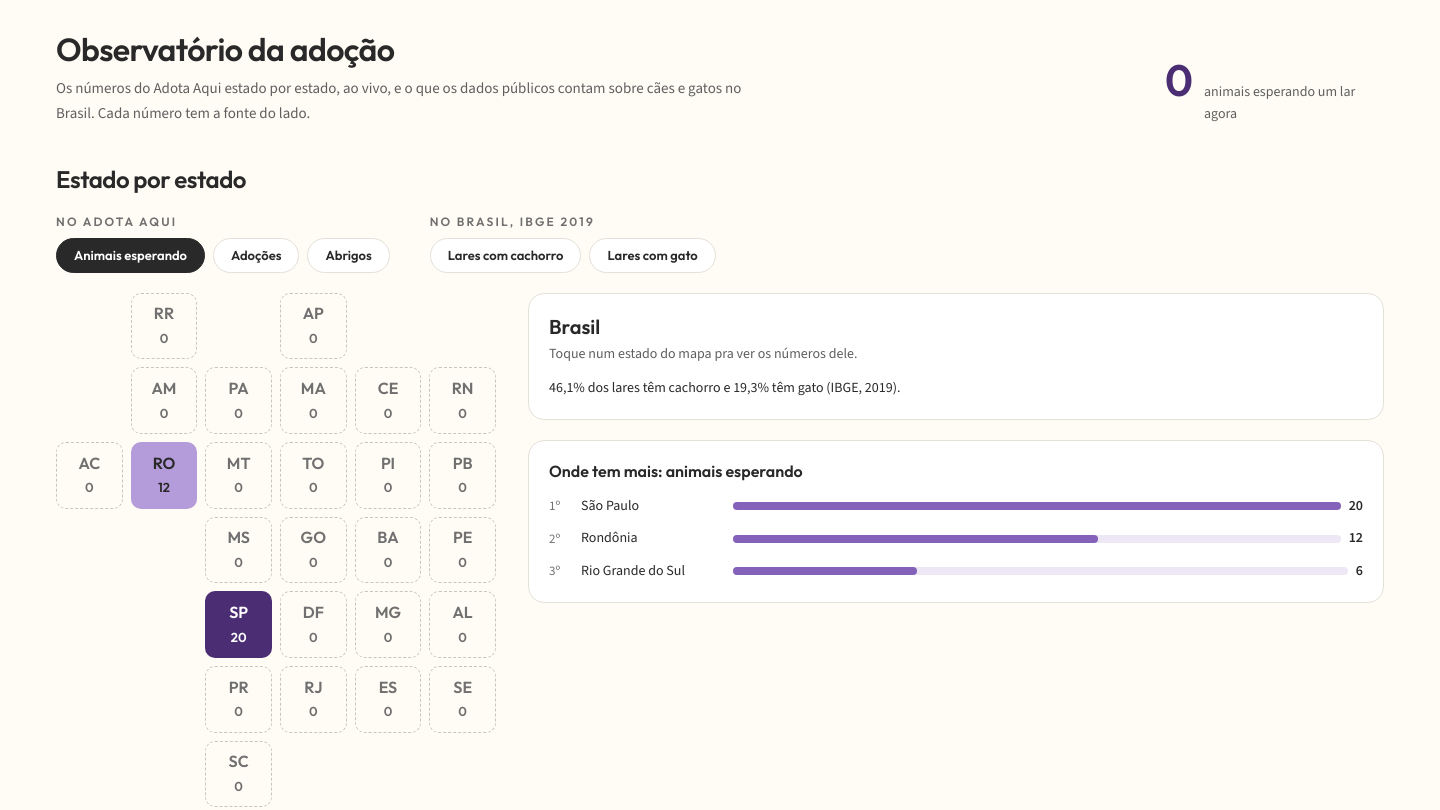
Scenario: escolher um estado mostra os números dele, do site e do IBGE, e dá pra voltar pro Brasil
Click the button with aria-label "Rondônia: 12 animais esperando": (164, 475) top-left (131, 442), bottom-right (197, 509)
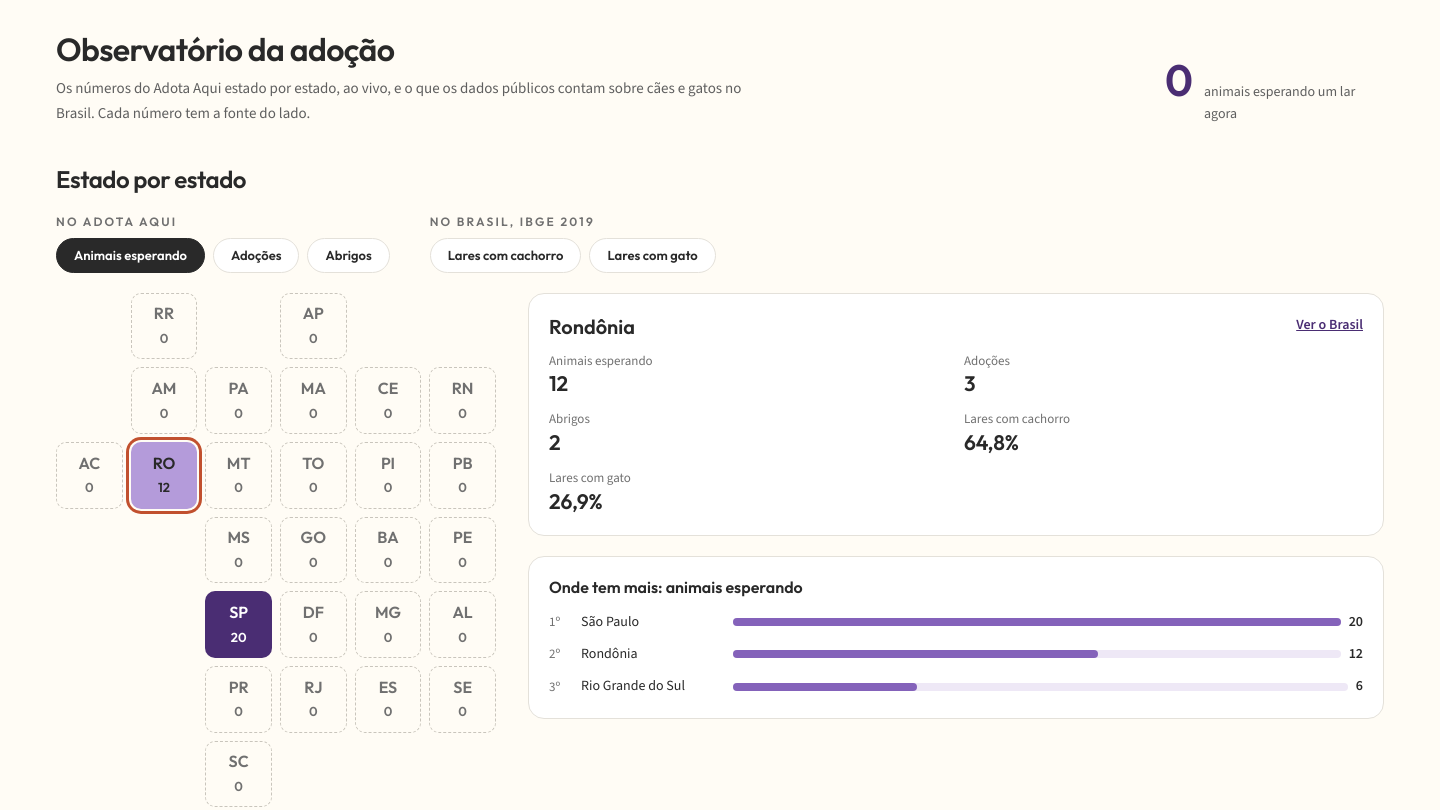
Expected: the text "3" is shown, top-left (964, 370), bottom-right (975, 396)
Expected: the text "2" is shown, top-left (549, 429), bottom-right (560, 455)
Expected: the text "26,9%" is shown, top-left (549, 488), bottom-right (602, 514)
Click the button "Ver o Brasil": (1330, 325) top-left (1296, 314), bottom-right (1363, 336)
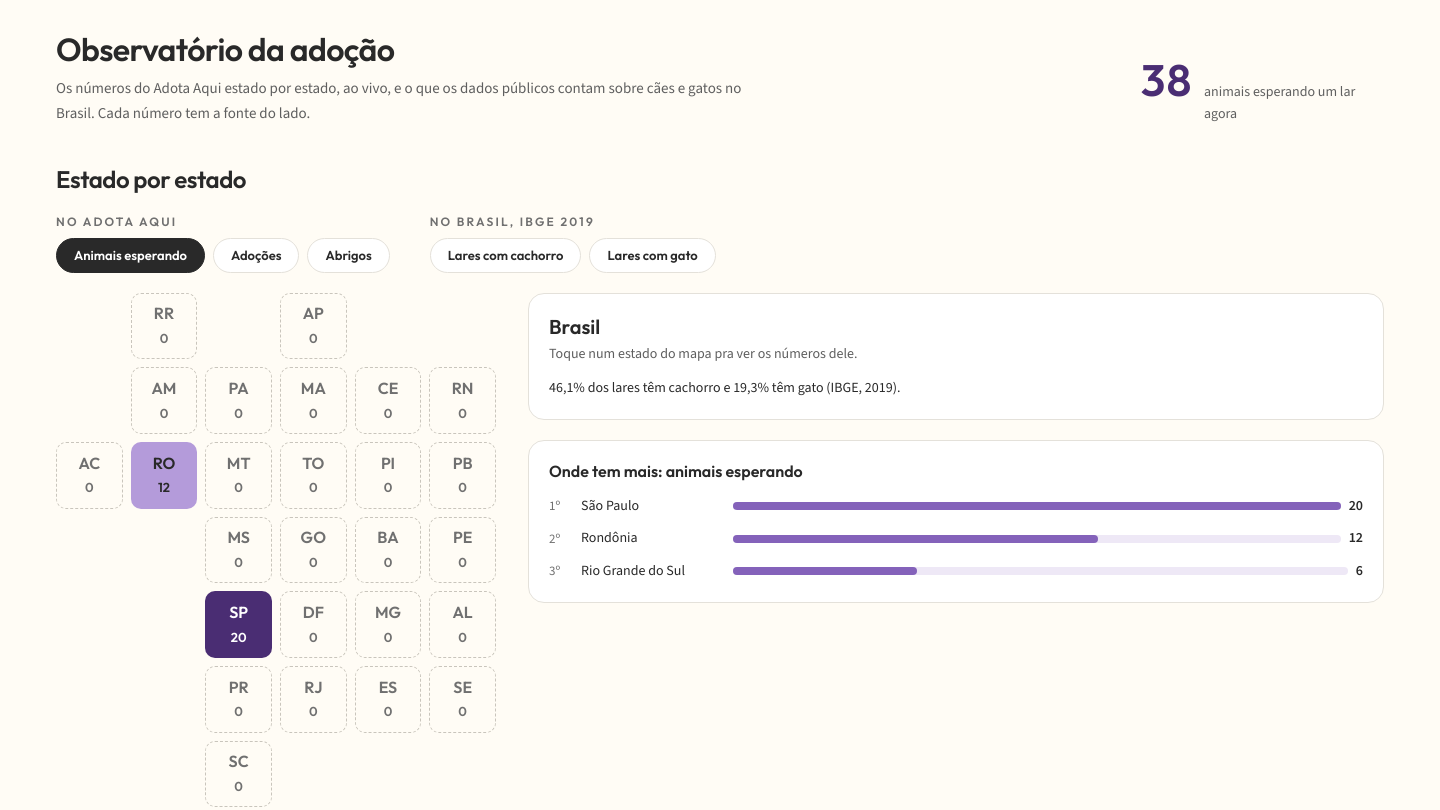
Expected: the heading "Brasil" is shown, top-left (549, 314), bottom-right (600, 339)
